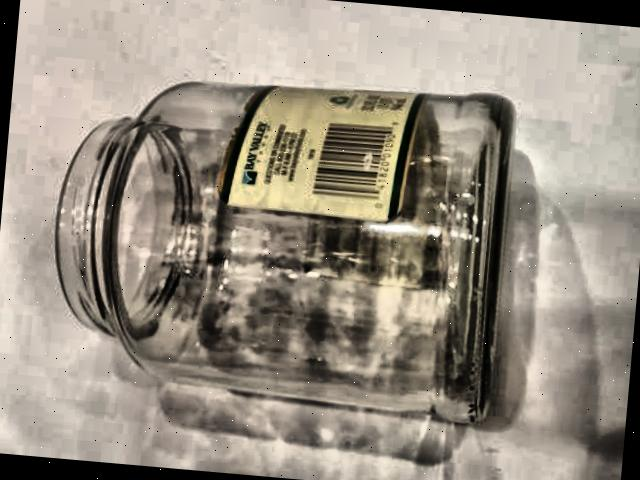Almennt: (6, 48, 564, 448)
